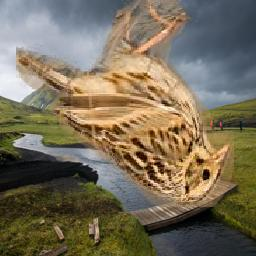Sparrow: (16, 0, 234, 207)
